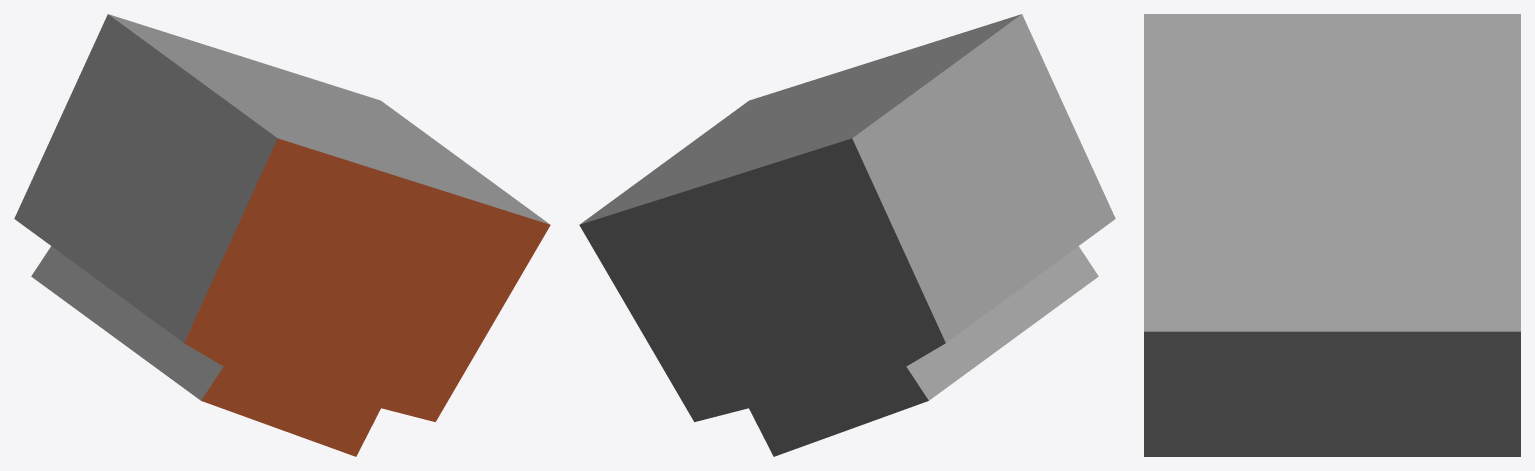
File: construction_6845_assumed_A_Casa_h6m.obj
3 renders of one model, left to right at view 1: azimuth 30°, elevation 25°; view 2: azimuth 150°, elevation 25°; view 3: azimuth 270°, elevation 25°, orthographic. The views are drawn at different scales.
Parts seen in each view (by area): view 1: construction_6845_assumed_A_Casa; view 2: construction_6845_assumed_A_Casa; view 3: construction_6845_assumed_A_Casa.
Part boxes in pixels (x1,y1,x2,y2): construction_6845_assumed_A_Casa: (14,14,550,456); construction_6845_assumed_A_Casa: (579,14,1115,456); construction_6845_assumed_A_Casa: (1144,14,1520,456).
Size of the model in its own units: 7.48 by 6.58 by 6.
